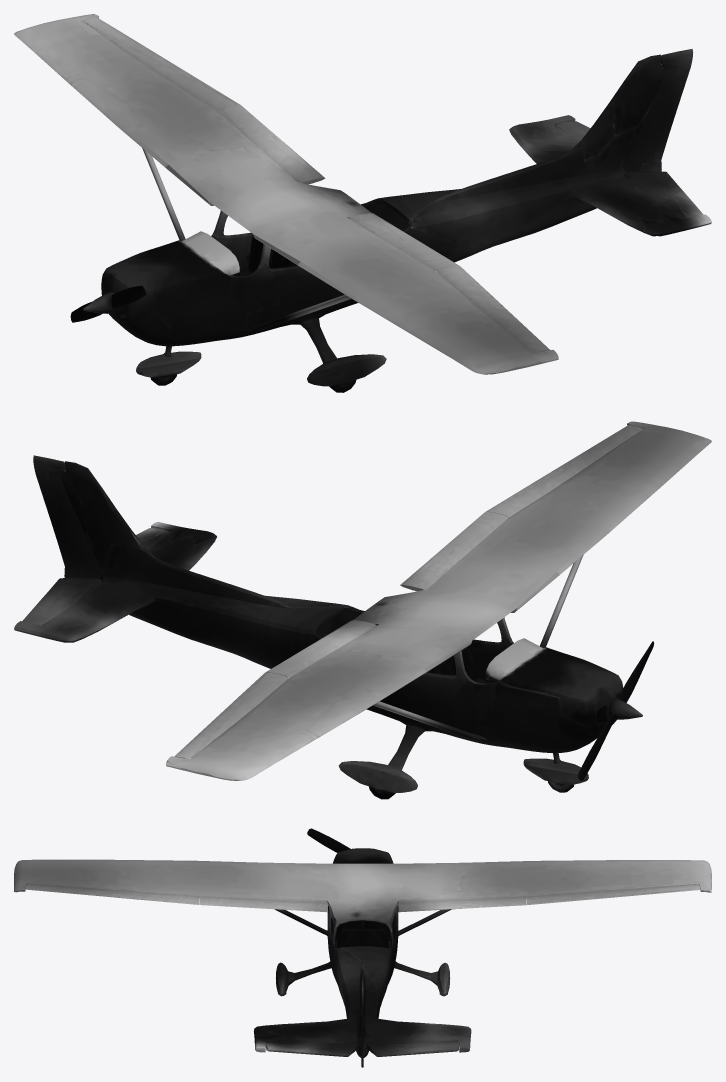
3 views of the same model, one above another, from view 1: azimuth 30°, elevation 25°; view 2: azimuth 150°, elevation 25°; view 3: azimuth 270°, elevation 25° (orthographic). The views are drawn at different scales.
Visible parts, largest first — view 1: Object_10, Object_7, mf_prop; view 2: Object_10, Object_7, mf_prop; view 3: Object_10, Object_7, mf_prop.
Boxes of the visible parts, x1,y1,x2,y2 form: Object_10: (14, 14, 711, 386); Object_7: (82, 17, 703, 392); mf_prop: (70, 285, 146, 322); Object_10: (14, 421, 711, 792); Object_7: (22, 425, 643, 799); mf_prop: (578, 641, 654, 780); Object_10: (14, 848, 711, 1057); Object_7: (26, 883, 699, 1067); mf_prop: (307, 828, 350, 852).
Size of the model in its own units: 8.24 by 2.72 by 11.
3 materials, 2 textured.
